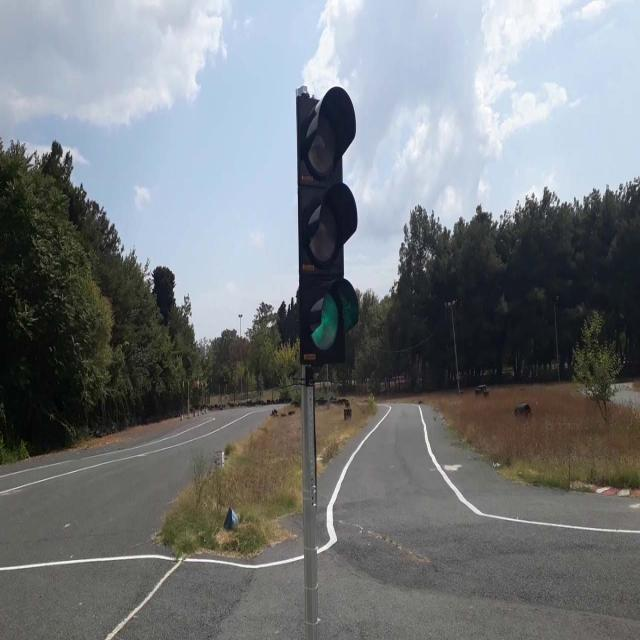yesil: (298, 86, 356, 358)
